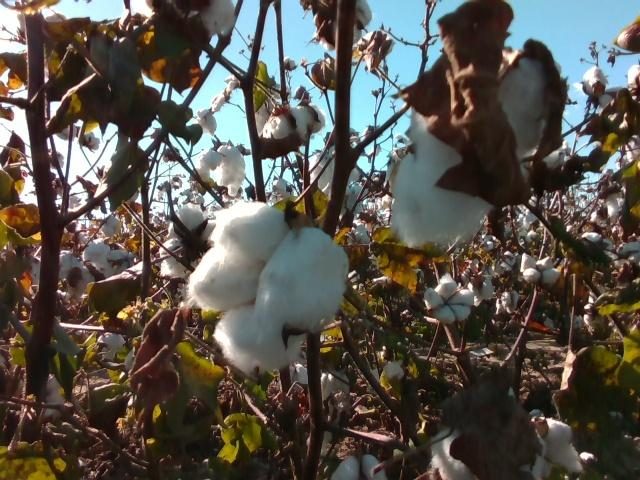cotton_ready: (392, 53, 560, 249), (188, 200, 350, 379), (159, 204, 222, 279), (520, 416, 587, 480), (140, 0, 239, 34), (427, 421, 481, 480), (315, 0, 376, 52), (421, 272, 477, 325), (199, 141, 248, 198), (263, 102, 326, 146), (12, 0, 69, 38), (328, 451, 392, 480)
